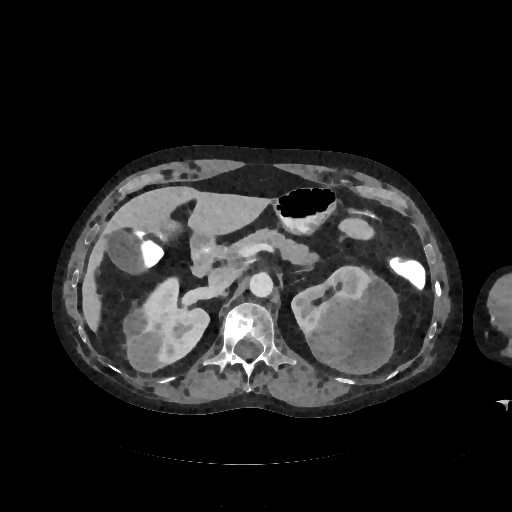Lesion: (322, 277, 401, 377)
